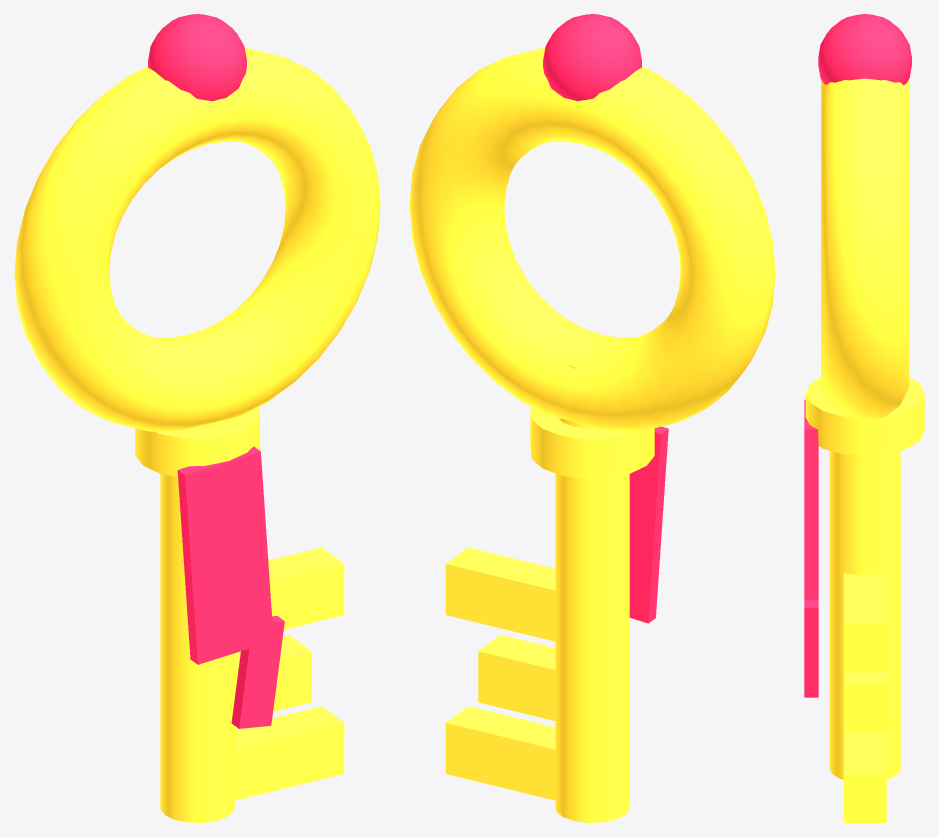
Rendered from kunci_gerbang.glb.
The picture shows the model from 3 angles, left to right: view 1: azimuth 30°, elevation 25°; view 2: azimuth 150°, elevation 25°; view 3: azimuth 270°, elevation 25°; orthographic projection. The views are drawn at different scales.
Parts seen in each view (by area): view 1: kunci_gerbang_Mesh; view 2: kunci_gerbang_Mesh; view 3: kunci_gerbang_Mesh.
Boxes of the visible parts, x1,y1,x2,y2 form: kunci_gerbang_Mesh: (14, 14, 380, 822); kunci_gerbang_Mesh: (409, 14, 775, 822); kunci_gerbang_Mesh: (804, 14, 924, 822).
Bounding box in the file's own units: 0.326 × 0.695 × 0.101.
